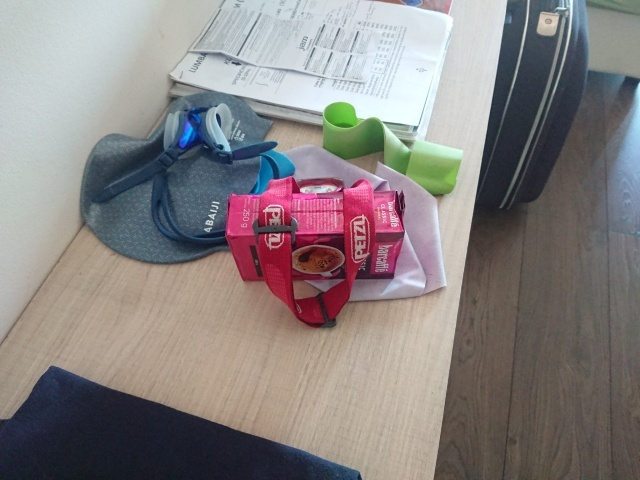Barcaffe Classic Original 225g: (223, 187, 408, 284)
